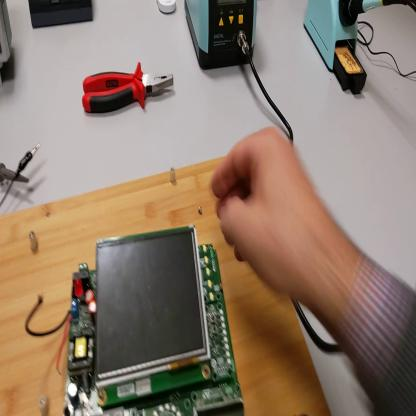hand: (212, 126, 323, 299)
low voltage board: (23, 224, 244, 416)
oscilloscope: (2, 3, 14, 75)
oscilloscope probe tip: (3, 162, 30, 184)
pliers: (82, 59, 178, 117)
welder base: (303, 1, 373, 97)
welder probe tip: (347, 3, 407, 19)
welder station: (184, 2, 259, 72)
working area: (2, 159, 333, 416)
